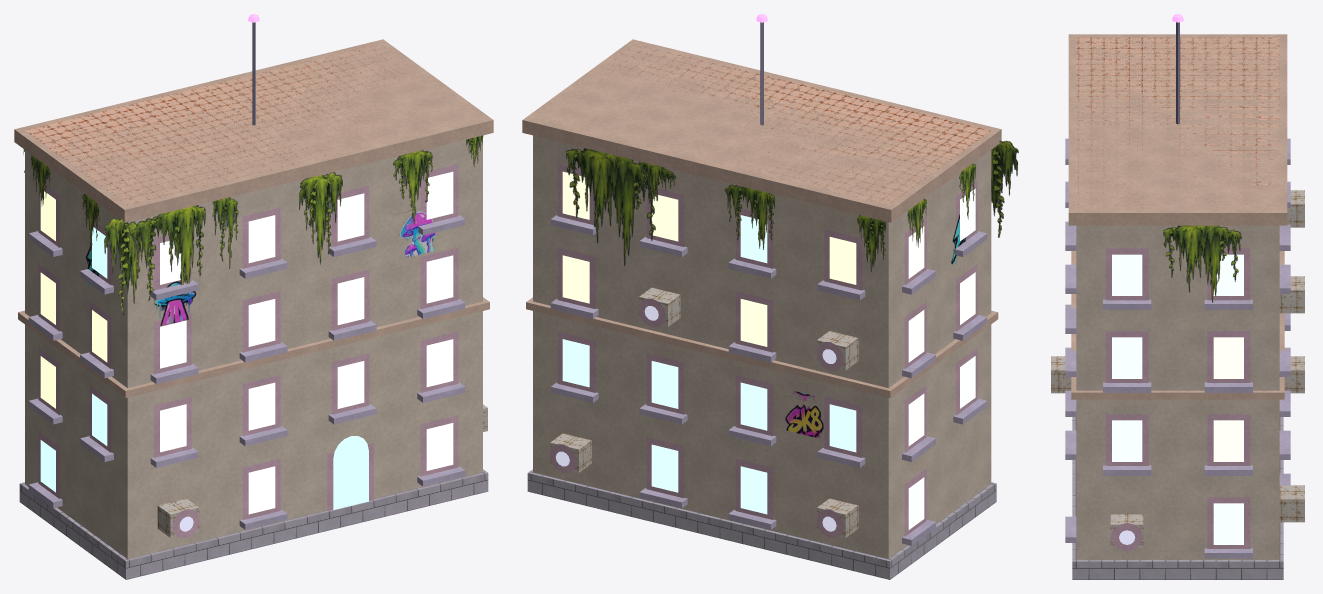
File: BUILDING_10.glb
The picture shows the model from 3 angles, left to right: view 1: azimuth 30°, elevation 25°; view 2: azimuth 150°, elevation 25°; view 3: azimuth 270°, elevation 25°; orthographic projection.
Parts seen in each view (by area): view 1: B_AS_10_Skin, B_AS_10_Moss; view 2: B_AS_10_Skin, B_AS_10_Moss; view 3: B_AS_10_Skin, B_AS_10_Moss.
Part boxes in pixels (bbox=[...]): B_AS_10_Skin: bbox=[14, 14, 493, 579]; B_AS_10_Moss: bbox=[23, 135, 483, 315]; B_AS_10_Skin: bbox=[522, 14, 1001, 579]; B_AS_10_Moss: bbox=[566, 140, 1018, 271]; B_AS_10_Skin: bbox=[1051, 14, 1304, 579]; B_AS_10_Moss: bbox=[1163, 225, 1241, 302].
Bounding box in the file's own units: 18.29 × 20.75 × 10.28.
12 materials, 6 textured.
